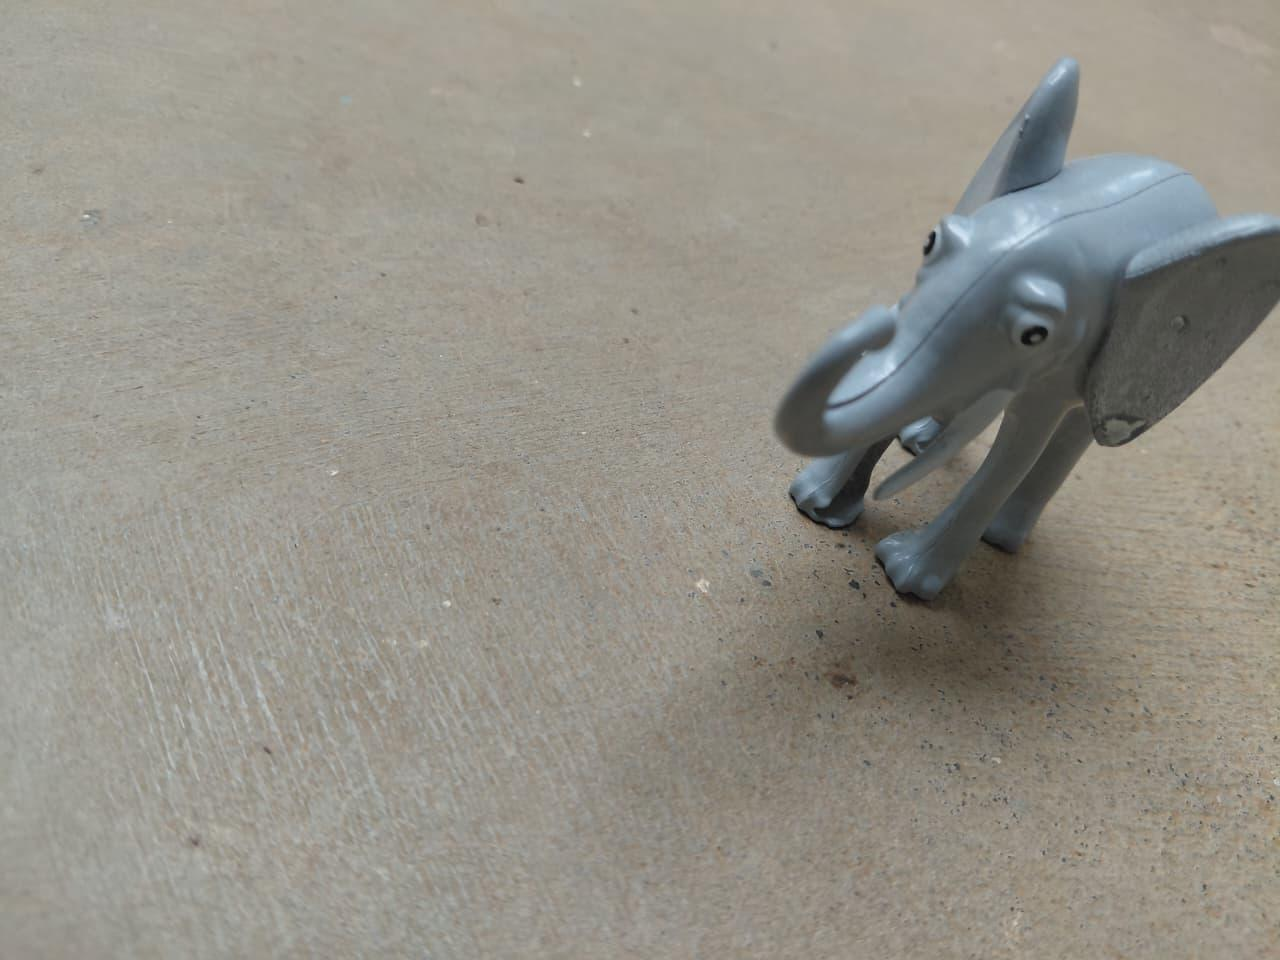elephant: (744, 58, 1280, 607)
